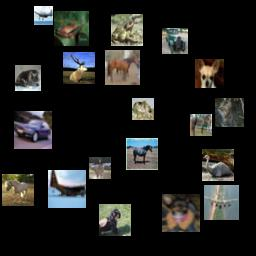airplane: (48, 170, 86, 208), (204, 185, 239, 220), (34, 6, 53, 25)
automobile: (14, 111, 52, 149), (162, 28, 188, 54)
bird: (202, 149, 234, 181)
cat: (215, 98, 244, 127), (15, 65, 41, 91), (132, 98, 154, 120)
deer: (63, 52, 95, 84)
dog: (162, 194, 200, 232), (99, 204, 131, 236), (195, 59, 224, 88)
frog: (54, 11, 89, 46), (111, 14, 143, 46)
